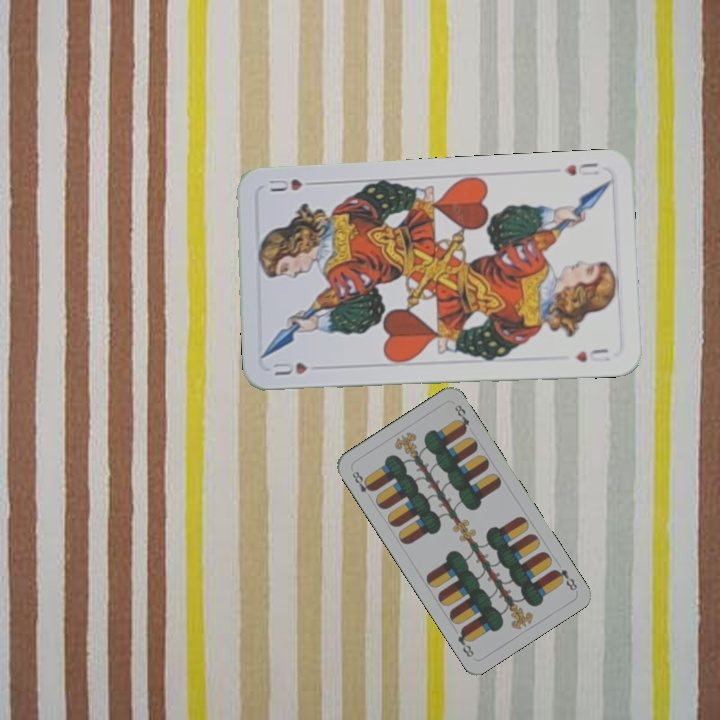E8: (549, 565, 580, 593), (348, 467, 376, 495)
HU: (560, 158, 602, 179), (269, 358, 310, 378)
